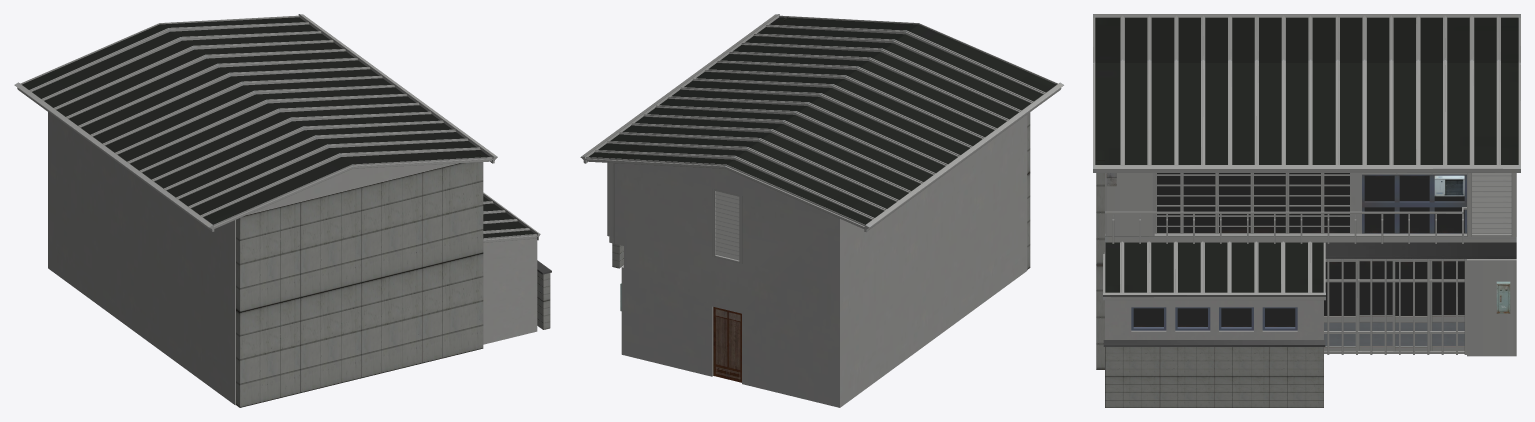
Rendered from jp-home3.glb.
3 renders of one model, left to right at view 1: azimuth 30°, elevation 25°; view 2: azimuth 150°, elevation 25°; view 3: azimuth 270°, elevation 25°, orthographic. The views are drawn at different scales.
Parts seen in each view (by area): view 1: JapaneseResidentialHome_03_blinn1_0; view 2: JapaneseResidentialHome_03_blinn1_0; view 3: JapaneseResidentialHome_03_blinn1_0.
Boxes of the visible parts, <box> form: JapaneseResidentialHome_03_blinn1_0: <box>14,14,551,407</box>; JapaneseResidentialHome_03_blinn1_0: <box>580,14,1063,407</box>; JapaneseResidentialHome_03_blinn1_0: <box>1093,14,1520,407</box>.
Size of the model in its own units: 12 by 7.2 by 11.64.
Materials: 1 (1 with a texture image).
